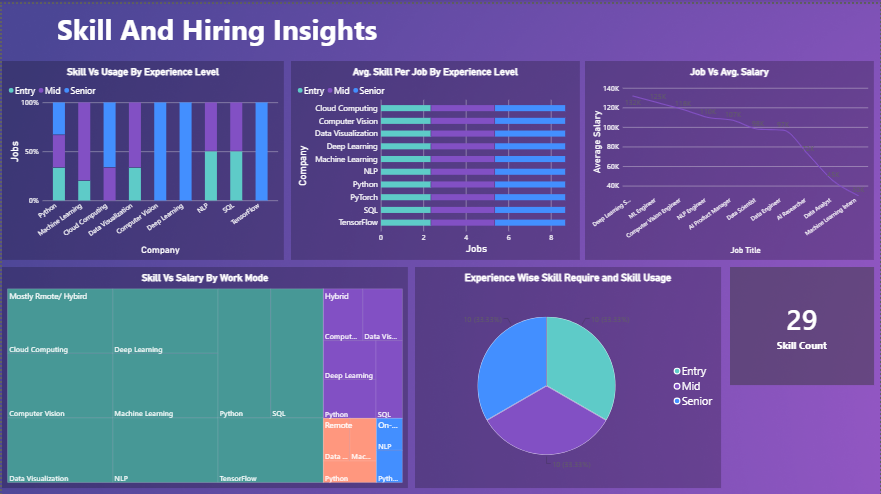

The page's visual inventory and layout, read from the dashboard file:
{"tool":"powerbi","page":{"name":"Skill And Hiring Insight","canvas":[2500,1400],"ordinal":3},"visuals":[{"type":"textbox","box":[0,17.1,1223.6,125.2],"z":0},{"type":"hundredPercentStackedColumnChart","title":"Skill Vs Usage By Experience Level","fields":{"Category":["Dim_Skills.Skill_Name"],"Series":["Fact_Jobs.Experience_Level"],"Y":["All_Measures.Skill_Usage_Count"]},"box":[0,162.2,802.4,566.3],"z":1000},{"type":"treemap","title":"Skill Vs Salary By Work Mode","fields":{"Details":["Dim_Skills.Skill_Name"],"Group":["Fact_Jobs.isRemote"],"Values":["Sum(Fact_Jobs.Salary_USD)"]},"box":[0,748.4,1155.3,628.9],"z":2000},{"type":"cardVisual","title":"Total Jobs","fields":{"Data":["Sum(Fact_Jobs.SkillCount)"]},"box":[2071.5,748.4,409.8,335.8],"z":3000},{"type":"lineChart","title":"Job Vs Avg. Salary","fields":{"Category":["Fact_Jobs.Job_Title"],"Y":["Fact_Jobs.Average_Salary_By_Exper"]},"box":[1658.9,162.2,822.4,566.3],"z":4000},{"type":"barChart","title":"Avg. Skill Per Job By Experience Level","fields":{"Category":["Dim_Skills.Skill_Name"],"Series":["Fact_Jobs.Experience_Level"],"Y":["All_Measures.Average_Skill_Per_Job"]},"box":[822.4,162.2,822.4,566.3],"z":5000},{"type":"pieChart","title":"Experience Wise Skill Require and Skill Usage","fields":{"Category":["Fact_Jobs.Experience_Level"],"Y":["CountNonNull(Dim_Skills.Skill_Name)"]},"box":[1175.2,748.4,870.7,628.9],"z":6000}]}

Visuals, with their boxes in screenshot pixels (x1, y1, x2, y2), scaled from the page's 2500x1400 canvas onto the 881x494 screenshot:
textbox: locate(0, 6, 431, 50)
"Skill Vs Usage By Experience Level" hundredPercentStackedColumnChart: locate(0, 57, 283, 257)
"Skill Vs Salary By Work Mode" treemap: locate(0, 264, 407, 486)
"Total Jobs" cardVisual: locate(730, 264, 874, 383)
"Job Vs Avg. Salary" lineChart: locate(585, 57, 874, 257)
"Avg. Skill Per Job By Experience Level" barChart: locate(290, 57, 580, 257)
"Experience Wise Skill Require and Skill Usage" pieChart: locate(414, 264, 721, 486)
